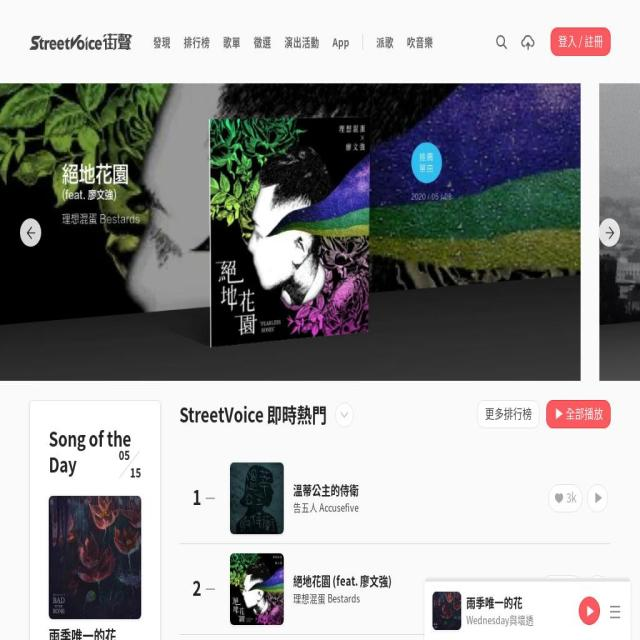button: (85, 83, 640, 382), (0, 83, 67, 382), (546, 399, 610, 428), (477, 399, 540, 428), (550, 27, 611, 56), (29, 33, 132, 50), (278, 26, 326, 57), (177, 26, 217, 57), (400, 26, 440, 57), (540, 575, 582, 604), (548, 483, 583, 512), (146, 26, 178, 57), (216, 26, 248, 57), (247, 26, 278, 57), (326, 26, 356, 57), (370, 26, 400, 57), (230, 462, 231, 462), (230, 554, 231, 554)
heading: (49, 423, 131, 479), (179, 402, 327, 428), (293, 572, 393, 590), (293, 480, 359, 499), (293, 590, 361, 607), (49, 623, 116, 640), (293, 498, 359, 515), (466, 612, 534, 628), (466, 593, 522, 612), (334, 402, 354, 428), (192, 572, 201, 604), (192, 481, 201, 512), (119, 448, 130, 462), (130, 466, 141, 479)
image: (85, 83, 640, 382), (0, 83, 67, 382), (49, 496, 141, 619), (230, 553, 284, 626), (230, 462, 284, 534), (432, 592, 462, 630), (425, 578, 630, 582), (579, 597, 599, 623)
text: (488, 27, 515, 56), (565, 403, 603, 422), (558, 582, 576, 596), (566, 492, 576, 505)
